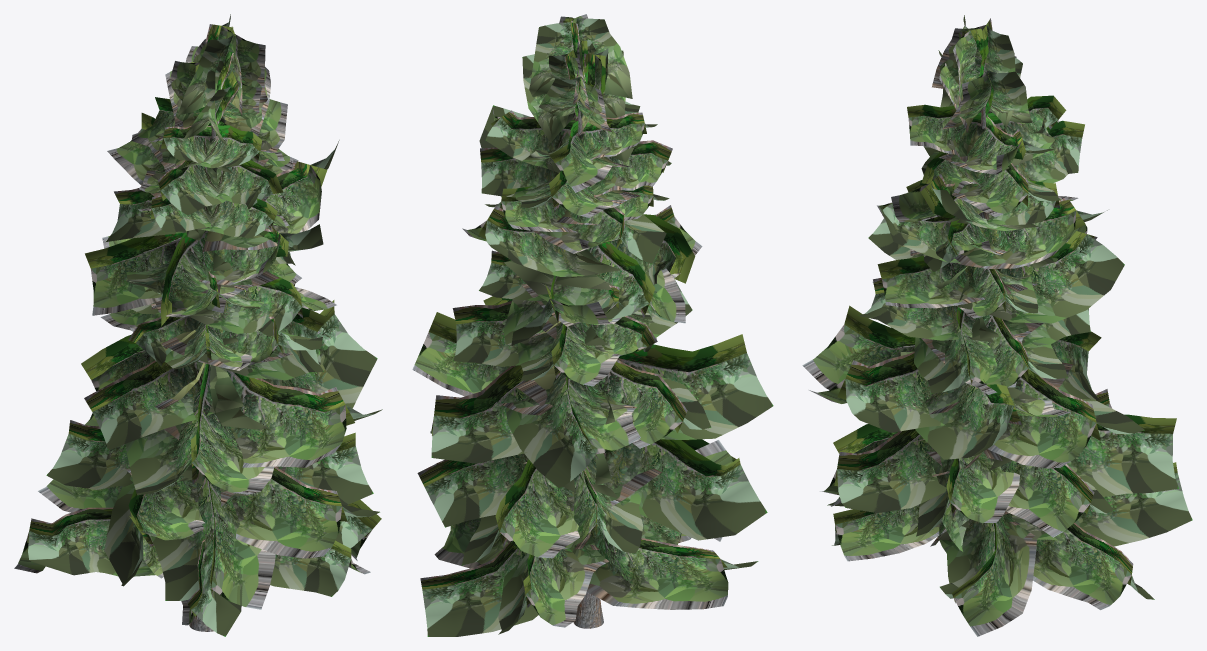
Rendered from Tree_01.fbx.
The picture shows the model from 3 angles, left to right: view 1: azimuth 30°, elevation 25°; view 2: azimuth 150°, elevation 25°; view 3: azimuth 270°, elevation 25°; orthographic projection. The views are drawn at different scales.
Visible parts, largest first — view 1: LOD0; view 2: LOD0; view 3: LOD0.
Boxes of the visible parts, box(x1,y1,x2,y2) form: LOD0: box(14, 14, 382, 636); LOD0: box(412, 14, 773, 636); LOD0: box(802, 15, 1192, 636).
Size of the model in its own units: 912 by 1526 by 930.
